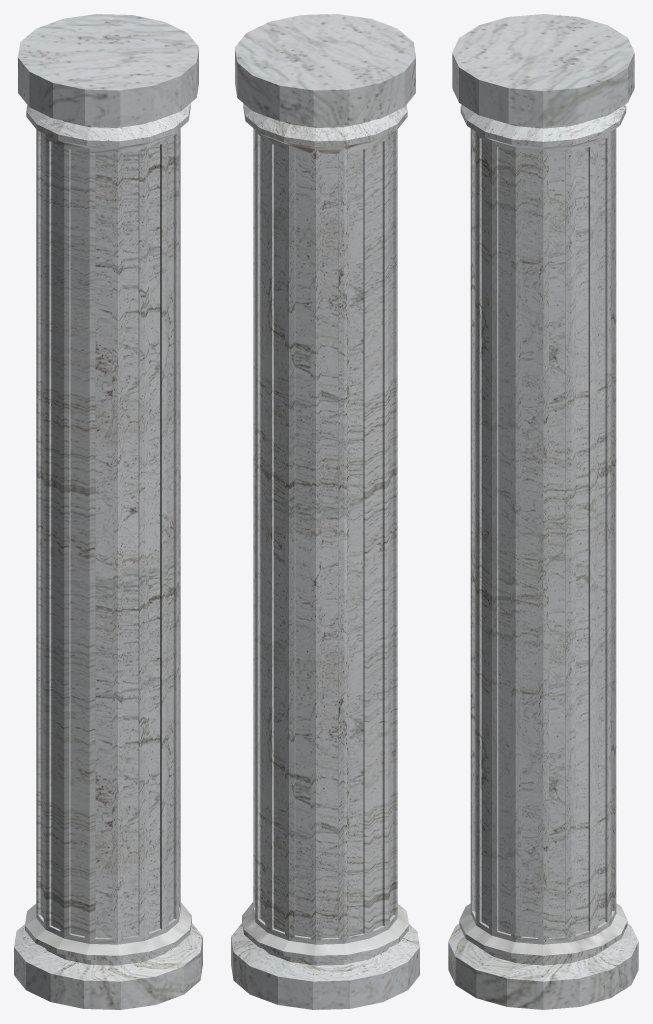
The model's file is Column_Cylinder_A.fbx.
3 renders of one model, left to right at view 1: azimuth 30°, elevation 25°; view 2: azimuth 150°, elevation 25°; view 3: azimuth 270°, elevation 25°, orthographic.
Parts seen in each view (by area): view 1: Column_Cyl_A; view 2: Column_Cyl_A; view 3: Column_Cyl_A.
Boxes of the visible parts, x1=… form: Column_Cyl_A: x1=14, y1=14, x2=202, y2=1009; Column_Cyl_A: x1=231, y1=14, x2=419, y2=1009; Column_Cyl_A: x1=448, y1=14, x2=638, y2=1009.
Size of the model in its own units: 405 by 2155 by 405.
